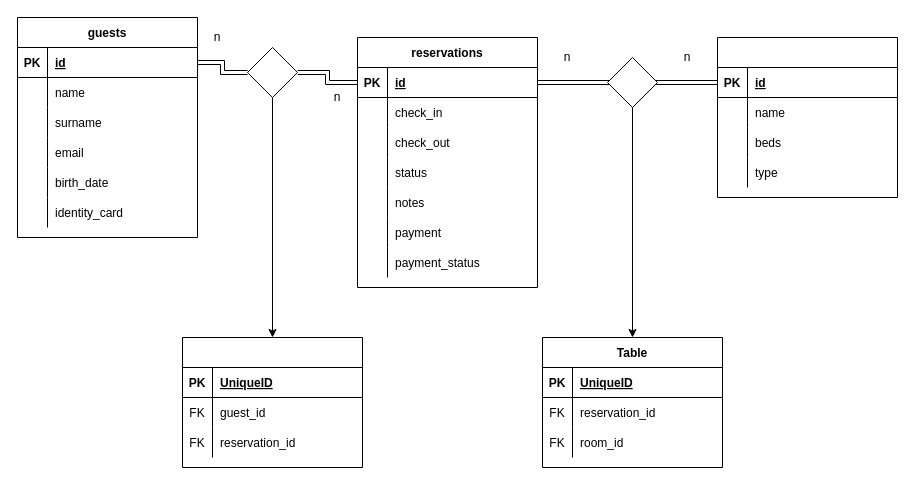
The diagram is 915 pixels wide and 485 high, and some of its shapes have lost their labels. Each missing label, with the box of its shape:
guest_reservation: (182, 336, 362, 468)
rooms: (716, 36, 898, 198)
